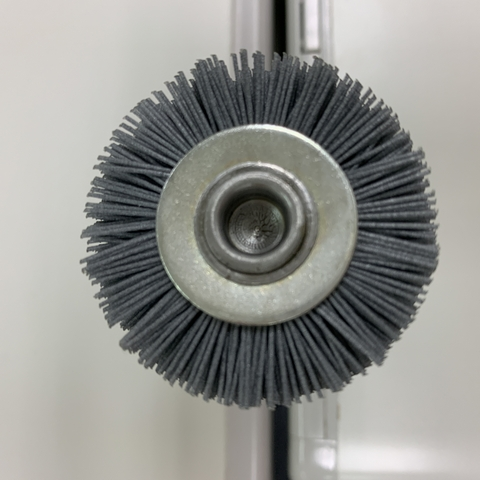Wheel Brush: (78, 54, 442, 406), (87, 45, 444, 350), (101, 39, 406, 394)
